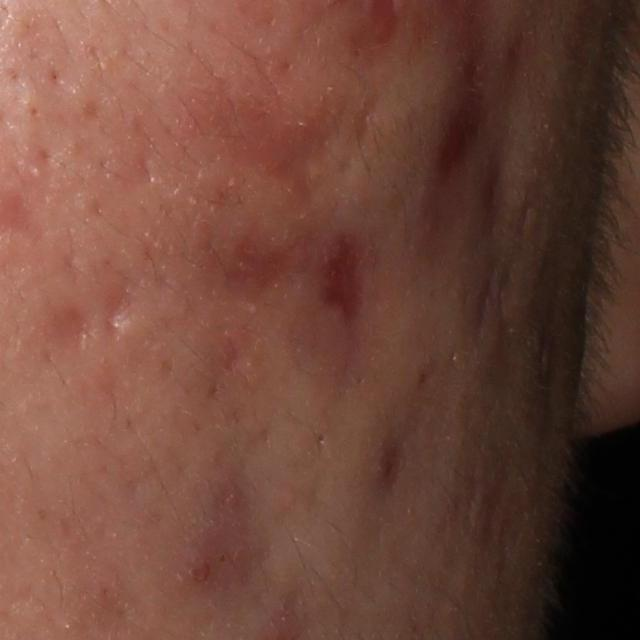atrophic_scar: (202, 86, 390, 215), (175, 452, 292, 601), (416, 73, 486, 240), (312, 223, 374, 329), (214, 241, 298, 314), (49, 303, 94, 356), (103, 290, 138, 339)
